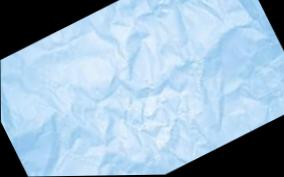paper: (1, 0, 283, 175)
